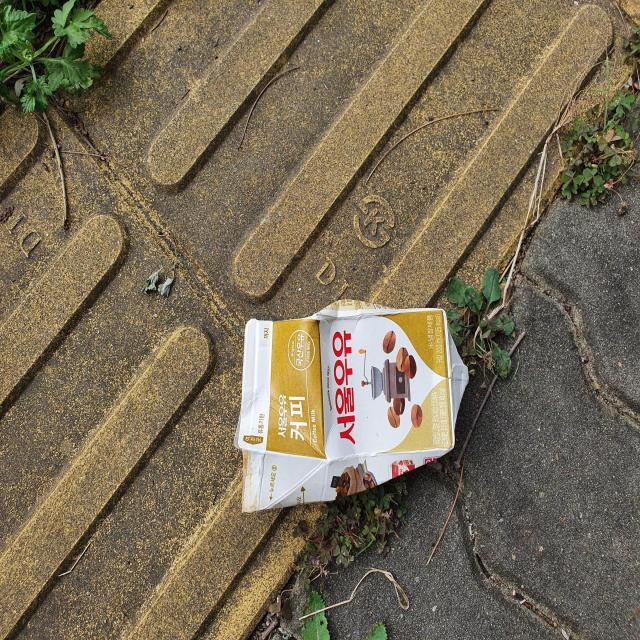paperpack: (234, 299, 469, 512)
